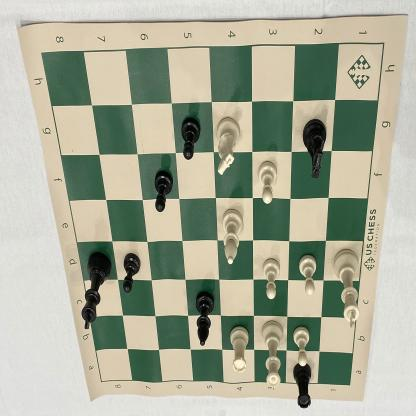black-bishop: (194, 288, 216, 350)
black-king: (77, 247, 112, 334)
black-knight: (300, 113, 330, 181)
black-pawn: (178, 115, 204, 164), (152, 168, 174, 218), (120, 250, 142, 295)
black-rook: (291, 361, 316, 412)
white-bishop: (220, 204, 245, 268)
white-king: (331, 246, 363, 331)
white-knight: (214, 113, 242, 181)
white-pawn: (256, 157, 280, 208), (296, 251, 319, 299), (259, 254, 281, 303), (292, 322, 312, 369)
white-queen: (258, 318, 286, 393)
white-rook: (227, 321, 251, 377)
